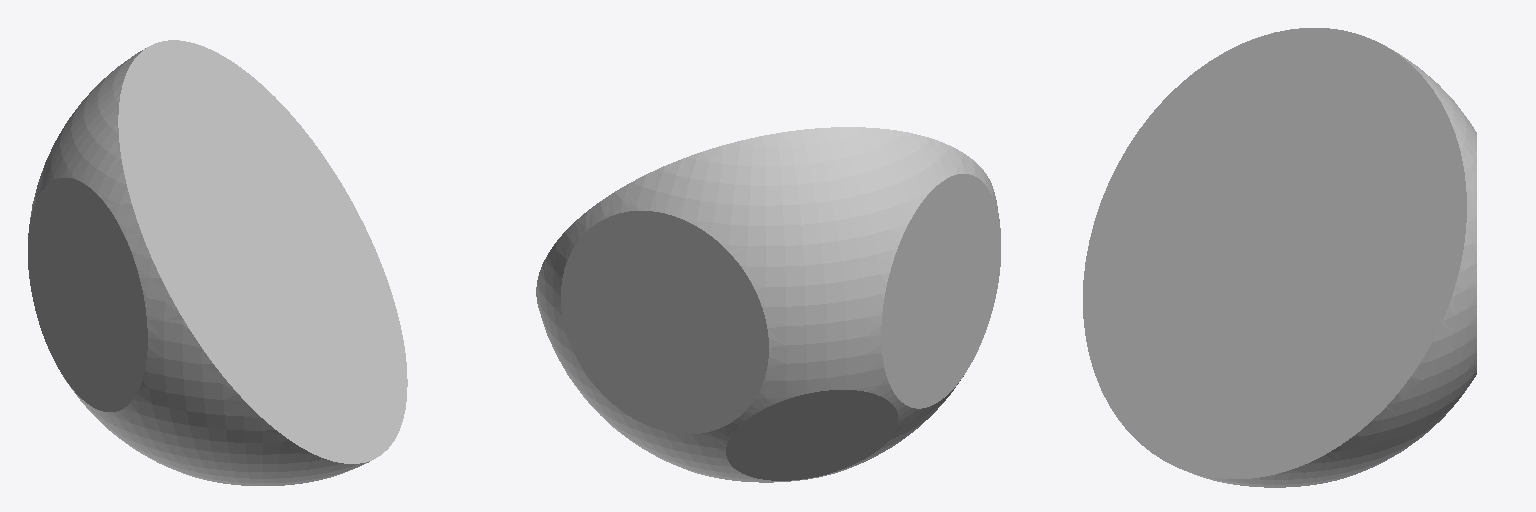
The model's file is hemisphere2.obj.
3 renders of one model, left to right at view 1: azimuth 30°, elevation 25°; view 2: azimuth 150°, elevation 25°; view 3: azimuth 270°, elevation 25°, orthographic.
Bounding box in the file's own units: 107 × 107 × 107.